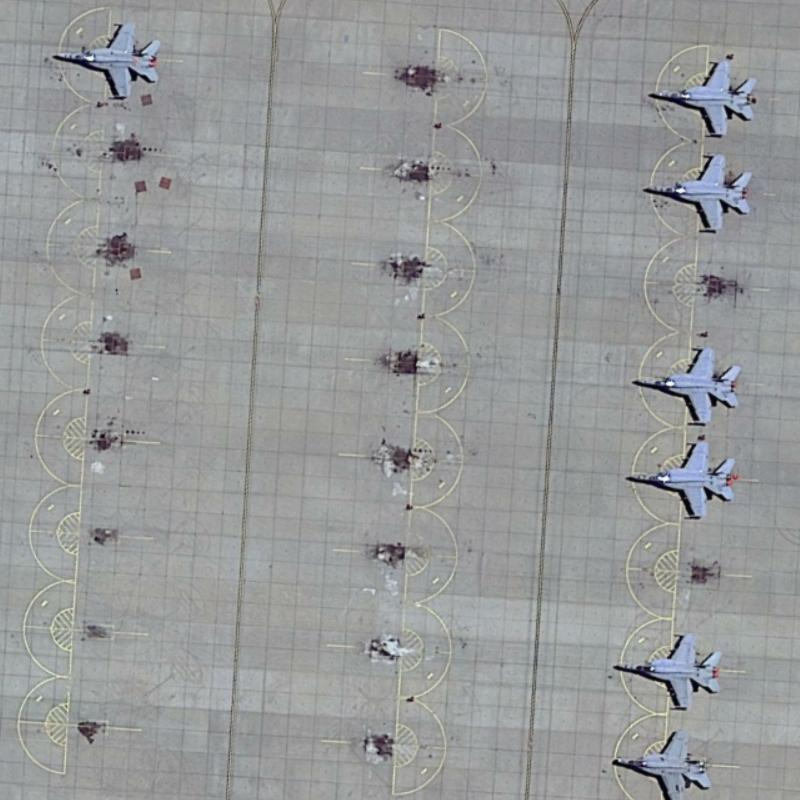A16: (625, 336, 746, 428), (632, 149, 757, 238), (48, 12, 165, 104), (616, 433, 737, 521), (640, 53, 760, 141), (608, 628, 724, 715), (608, 725, 716, 799)
